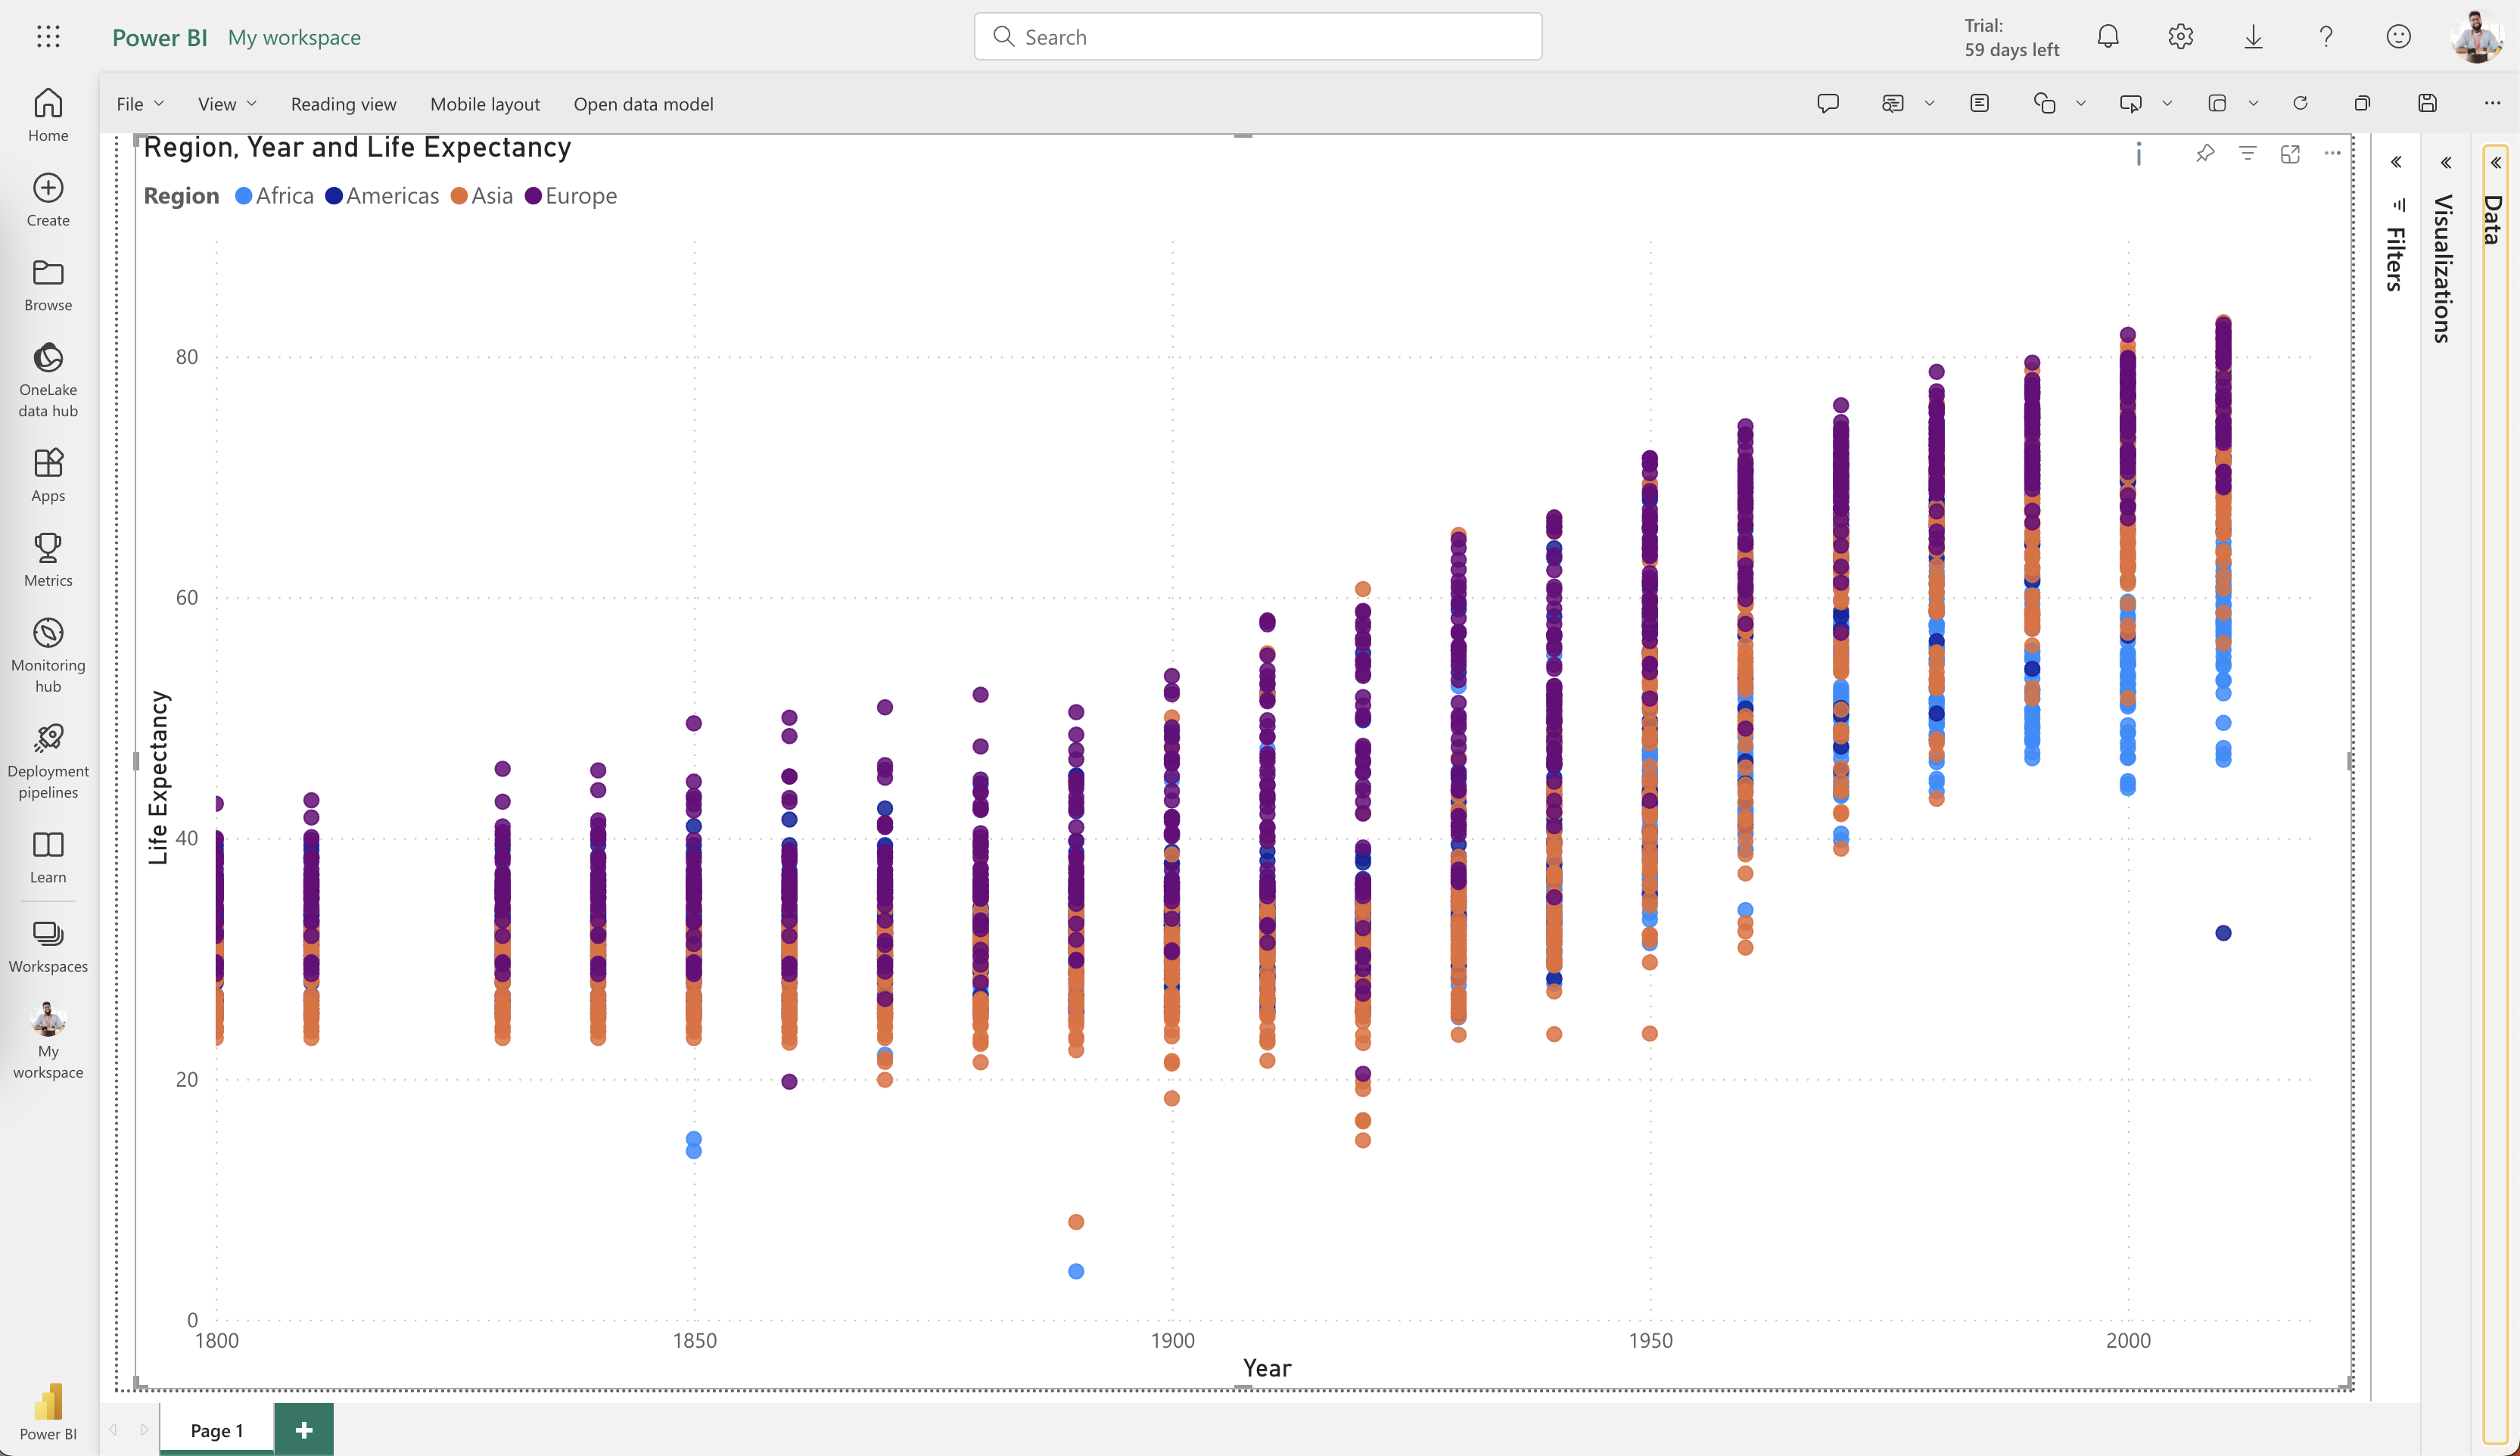

The dashboard page shown, as its layout file describes it:
{"tool":"powerbi","page":{"name":"Page 3","canvas":[1280,720],"ordinal":2},"visuals":[{"type":"scatterChart","fields":{"Series":["Table.Region"],"Y":["Table.Life Expectancy"],"X":["Table.Year"]},"box":[9.6,0,1270.4,719.7],"z":0}]}

Visuals, with their boxes on the page's 1280x720 design canvas (x1, y1, x2, y2). These are canvas units, not pixel positions in the 2520x1456 screenshot, which may show the page scaled, cropped or inside an application window:
scatterChart - Table.Region x Table.Life Expectancy: l=10, t=0, r=1280, b=720
